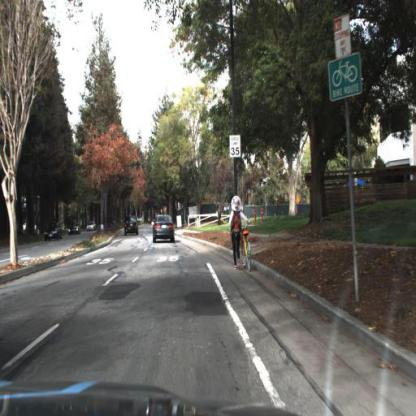car: (154, 213, 176, 243), (125, 216, 140, 237), (46, 226, 62, 241), (66, 221, 81, 237), (69, 225, 81, 237), (85, 222, 97, 234), (88, 224, 98, 231)
pedestrian: (228, 194, 257, 274), (230, 196, 244, 273)
